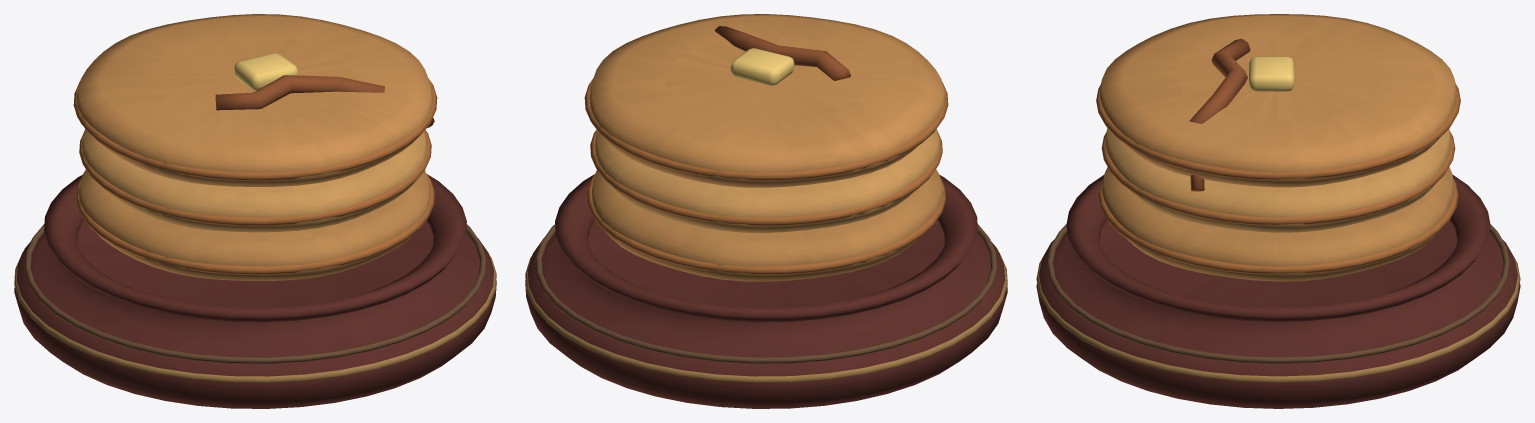
Rendered from pancake.glb.
3 views of the same model, side by side, from view 1: azimuth 30°, elevation 25°; view 2: azimuth 150°, elevation 25°; view 3: azimuth 270°, elevation 25° (orthographic).
Parts seen in each view (by area): view 1: Shared_burgundy_dessert_plate, Pancake_soft_layer_3, Pancake_soft_layer_1, Pancake_soft_layer_2, Shared_deep_recessed_band, Shared_antique_brass_outer_rim, Pancake_browned_edge_3, Pancake_browned_edge_1, Pancake_browned_edge_2, Pancake_amber_syrup_ribbon, Pancake_small_butter_pat; view 2: Shared_burgundy_dessert_plate, Pancake_soft_layer_3, Pancake_soft_layer_1, Pancake_soft_layer_2, Shared_deep_recessed_band, Shared_antique_brass_outer_rim, Pancake_browned_edge_3, Pancake_browned_edge_1, Pancake_browned_edge_2, Pancake_amber_syrup_ribbon, Pancake_small_butter_pat; view 3: Shared_burgundy_dessert_plate, Pancake_soft_layer_3, Pancake_soft_layer_1, Pancake_soft_layer_2, Shared_deep_recessed_band, Shared_antique_brass_outer_rim, Pancake_browned_edge_3, Pancake_browned_edge_1, Pancake_browned_edge_2, Pancake_amber_syrup_ribbon, Pancake_small_butter_pat.
Part boxes in pixels (x1=…): Shared_burgundy_dessert_plate: x1=14, y1=174, x2=496, y2=408; Pancake_soft_layer_3: x1=76, y1=14, x2=432, y2=186; Pancake_soft_layer_1: x1=78, y1=169, x2=430, y2=280; Pancake_soft_layer_2: x1=81, y1=130, x2=426, y2=232; Shared_deep_recessed_band: x1=24, y1=224, x2=486, y2=363; Shared_antique_brass_outer_rim: x1=14, y1=251, x2=496, y2=382; Pancake_browned_edge_3: x1=73, y1=78, x2=437, y2=181; Pancake_browned_edge_1: x1=76, y1=173, x2=434, y2=275; Pancake_browned_edge_2: x1=79, y1=129, x2=431, y2=226; Pancake_amber_syrup_ribbon: x1=215, y1=75, x2=384, y2=110; Pancake_small_butter_pat: x1=234, y1=53, x2=297, y2=90; Shared_burgundy_dessert_plate: x1=525, y1=174, x2=1007, y2=408; Pancake_soft_layer_3: x1=589, y1=14, x2=946, y2=187; Pancake_soft_layer_1: x1=592, y1=169, x2=943, y2=281; Pancake_soft_layer_2: x1=595, y1=129, x2=940, y2=232; Shared_deep_recessed_band: x1=535, y1=224, x2=997, y2=363; Shared_antique_brass_outer_rim: x1=525, y1=251, x2=1007, y2=382; Pancake_browned_edge_3: x1=584, y1=78, x2=948, y2=181; Pancake_browned_edge_1: x1=587, y1=173, x2=945, y2=275; Pancake_browned_edge_2: x1=590, y1=129, x2=942, y2=226; Pancake_amber_syrup_ribbon: x1=714, y1=26, x2=850, y2=80; Pancake_small_butter_pat: x1=730, y1=48, x2=794, y2=85; Shared_burgundy_dessert_plate: x1=1036, y1=174, x2=1520, y2=408; Pancake_soft_layer_3: x1=1099, y1=14, x2=1456, y2=187; Pancake_soft_layer_1: x1=1102, y1=167, x2=1454, y2=281; Pancake_soft_layer_2: x1=1105, y1=128, x2=1450, y2=232; Shared_deep_recessed_band: x1=1046, y1=224, x2=1510, y2=363; Shared_antique_brass_outer_rim: x1=1036, y1=259, x2=1520, y2=382; Pancake_browned_edge_3: x1=1096, y1=83, x2=1460, y2=180; Pancake_browned_edge_1: x1=1098, y1=179, x2=1458, y2=274; Pancake_browned_edge_2: x1=1101, y1=131, x2=1455, y2=225; Pancake_amber_syrup_ribbon: x1=1189, y1=38, x2=1250, y2=123; Pancake_small_butter_pat: x1=1249, y1=56, x2=1294, y2=91.
Bounding box in the file's own units: 0.858 × 0.495 × 0.858.
